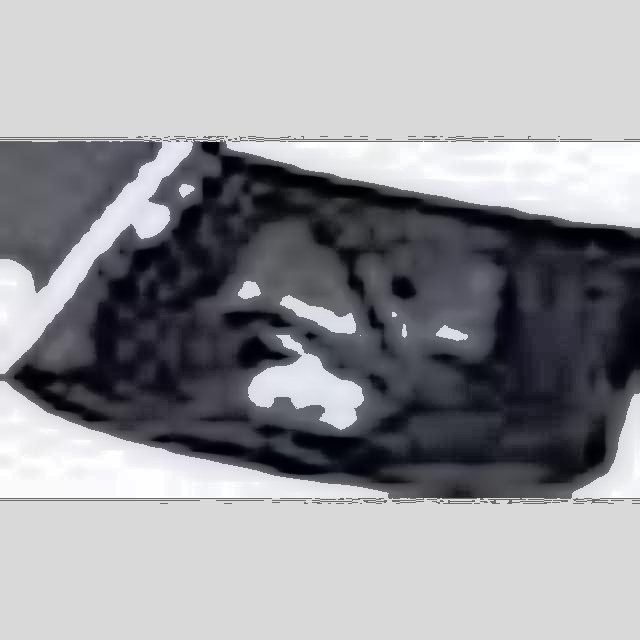pakai: (199, 184, 493, 415)
